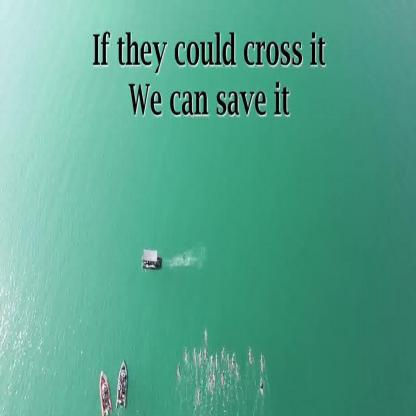Boat: (117, 366, 133, 411), (95, 369, 110, 415)
